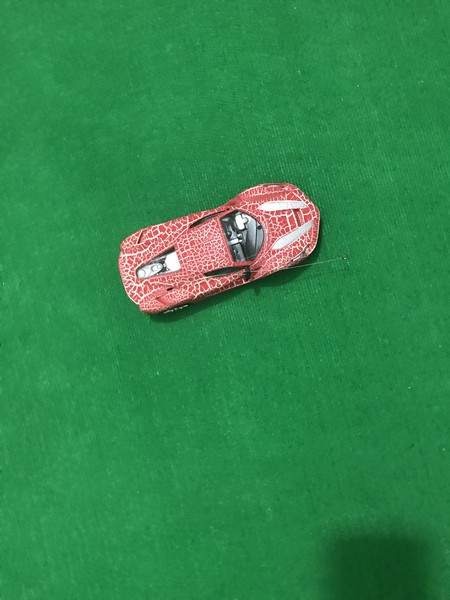RC: (114, 179, 325, 319)
